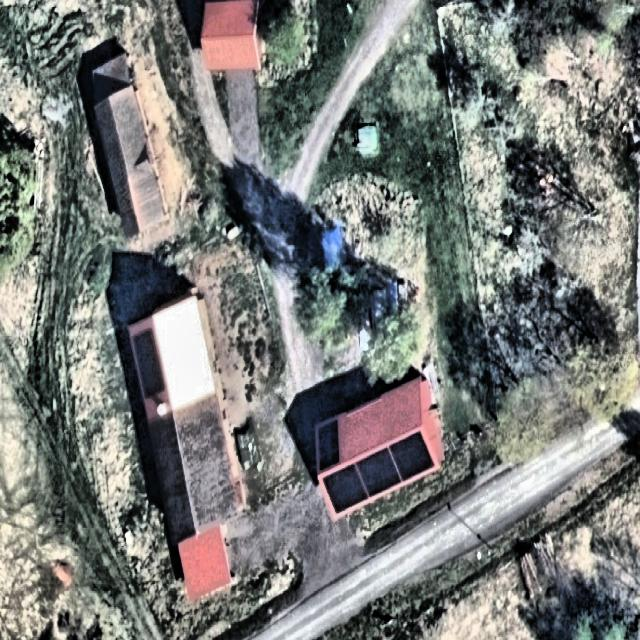roof_pv: (131, 323, 169, 402), (322, 466, 368, 520), (391, 424, 432, 481), (358, 444, 399, 497), (313, 414, 346, 474)
